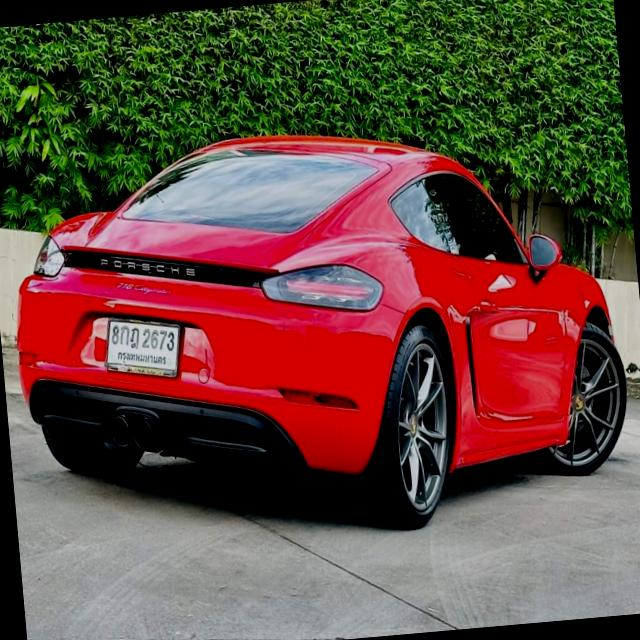license_plate: (99, 304, 188, 385)
